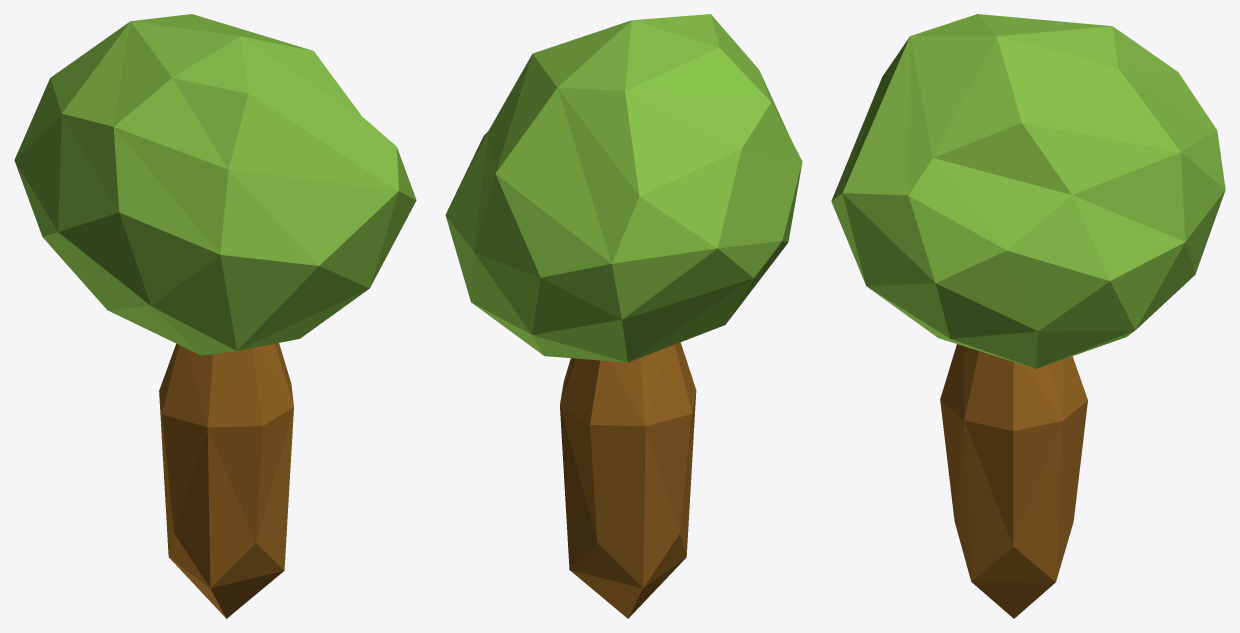
The picture shows the model from 3 angles, left to right: view 1: azimuth 30°, elevation 25°; view 2: azimuth 150°, elevation 25°; view 3: azimuth 270°, elevation 25°; orthographic projection.
Visible parts, largest first — view 1: Icosphere_059; view 2: Icosphere_059; view 3: Icosphere_059.
Boxes of the visible parts, left/top/right/bottom form: Icosphere_059: left=14, top=14, right=416, bottom=618; Icosphere_059: left=445, top=14, right=802, bottom=618; Icosphere_059: left=831, top=14, right=1225, bottom=618.
Size of the model in its own units: 1.2 by 1.32 by 2.17.
